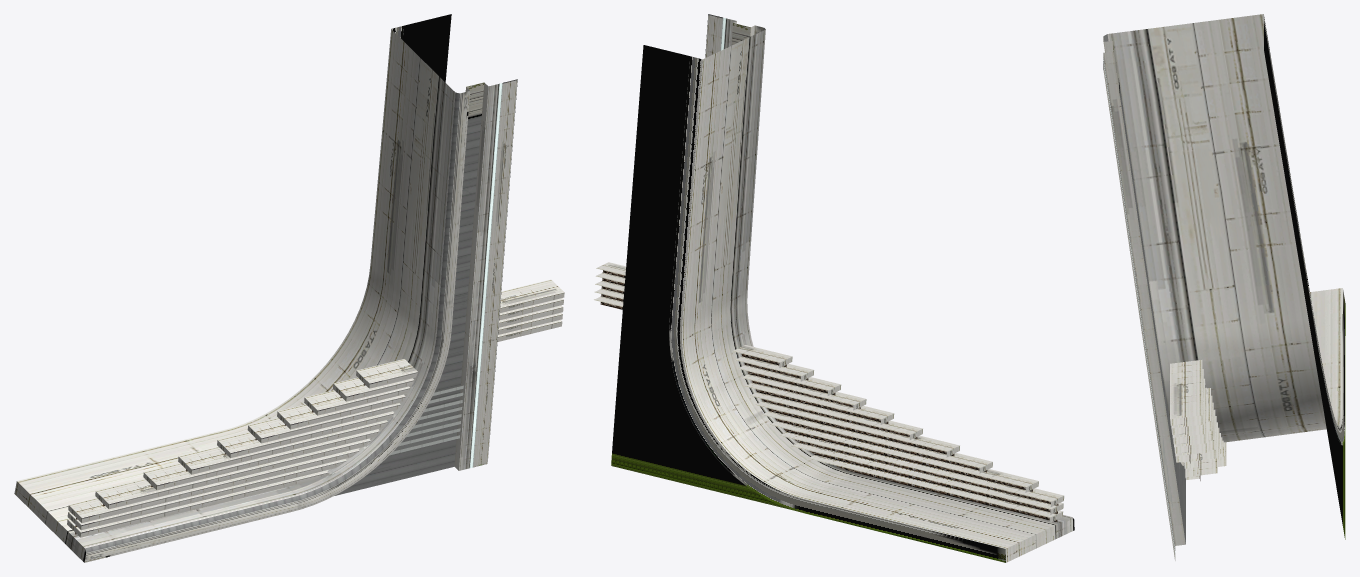
The model's file is STA20_59.FBX.
3 views of the same model, side by side, from view 1: azimuth 30°, elevation 25°; view 2: azimuth 150°, elevation 25°; view 3: azimuth 270°, elevation 25° (orthographic). The views are drawn at different scales.
Parts seen in each view (by area): view 1: STA20_59; view 2: STA20_59; view 3: STA20_59.
Boxes of the visible parts, x1,y1,x2,y2 form: STA20_59: (14, 14, 564, 562); STA20_59: (594, 14, 1074, 562); STA20_59: (1103, 14, 1345, 560).
Bounding box in the file's own units: 240 × 203 × 86.66.
